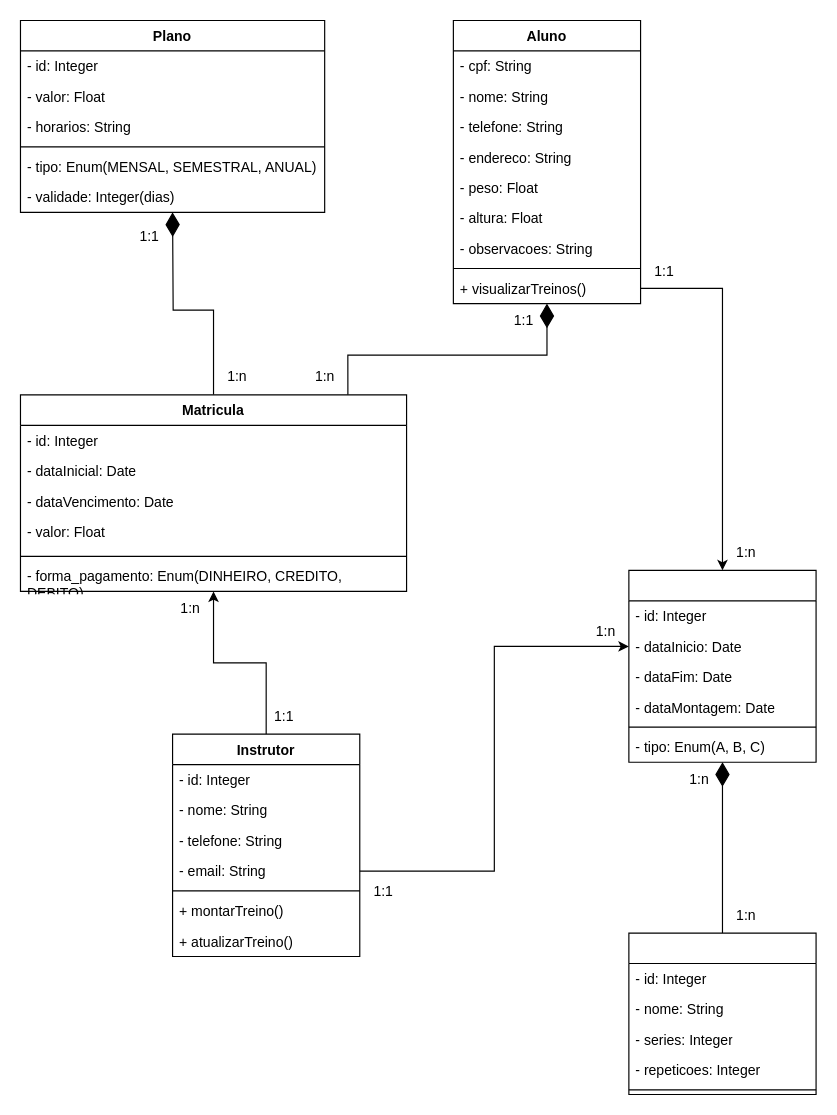
Some shapes in this 837 by 1115 pixel diagram are drawn without their labels. Here are the shapes that lost their labels. From the top down, the box of each, then its label:
(628, 569, 816, 762): Treino
(628, 932, 816, 1095): Exercicio
